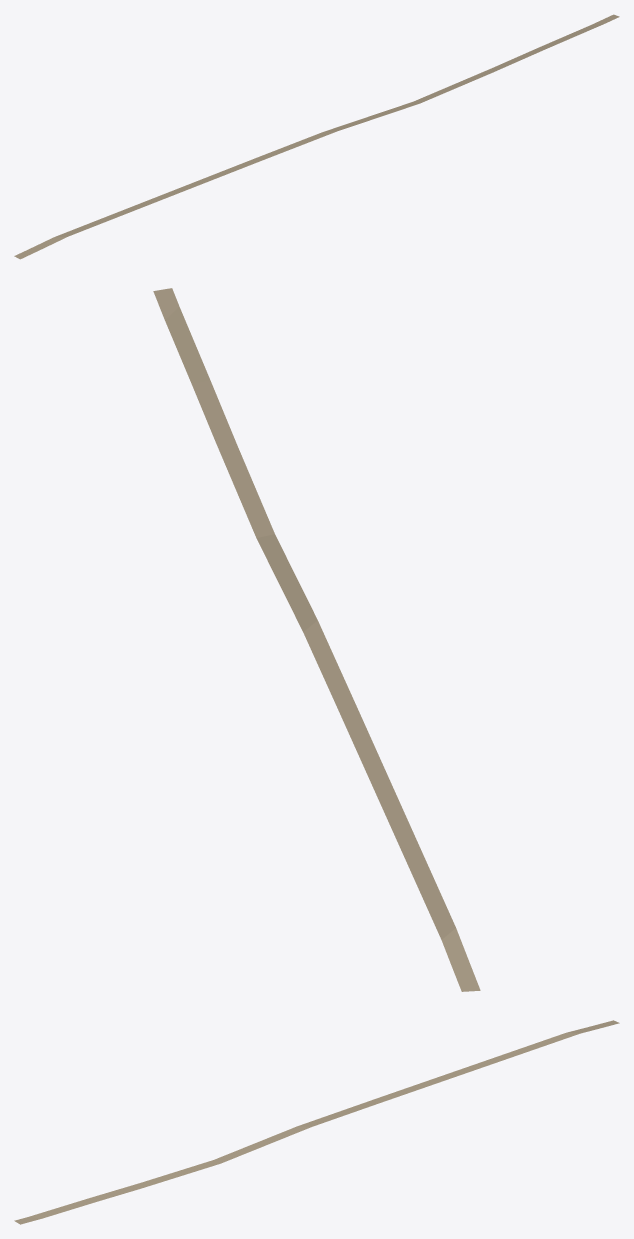
Rendered from farm_-12_-11_track.glb.
3 views of the same model, one above another, from view 1: azimuth 90°, elevation 25°; view 2: azimuth 150°, elevation 25°; view 3: azimuth 270°, elevation 25° (orthographic). The views are drawn at different scales.
Visible parts, largest first — view 1: geometry_0; view 2: geometry_0; view 3: geometry_0.
Boxes of the visible parts, x1,y1,x2,y2 form: geometry_0: (14,14,619,259); geometry_0: (153,288,480,991); geometry_0: (14,1020,619,1224).
Bounding box in the file's own units: 181 × 7.92 × 206.
